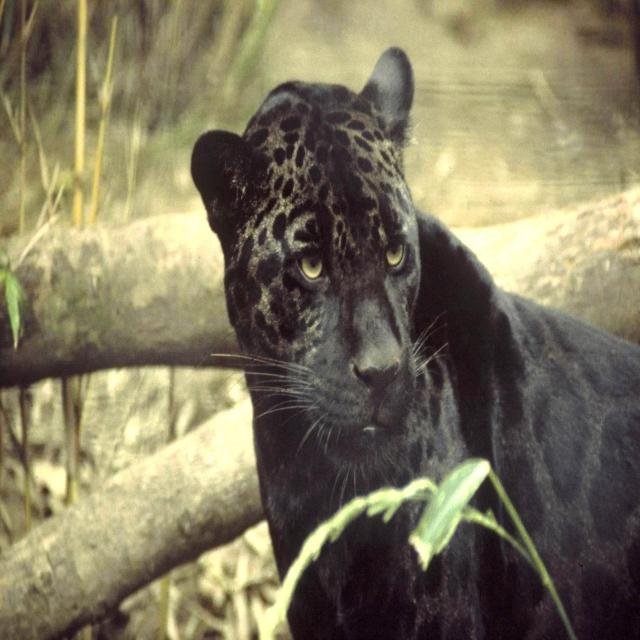Leopard: (190, 46, 638, 638)
